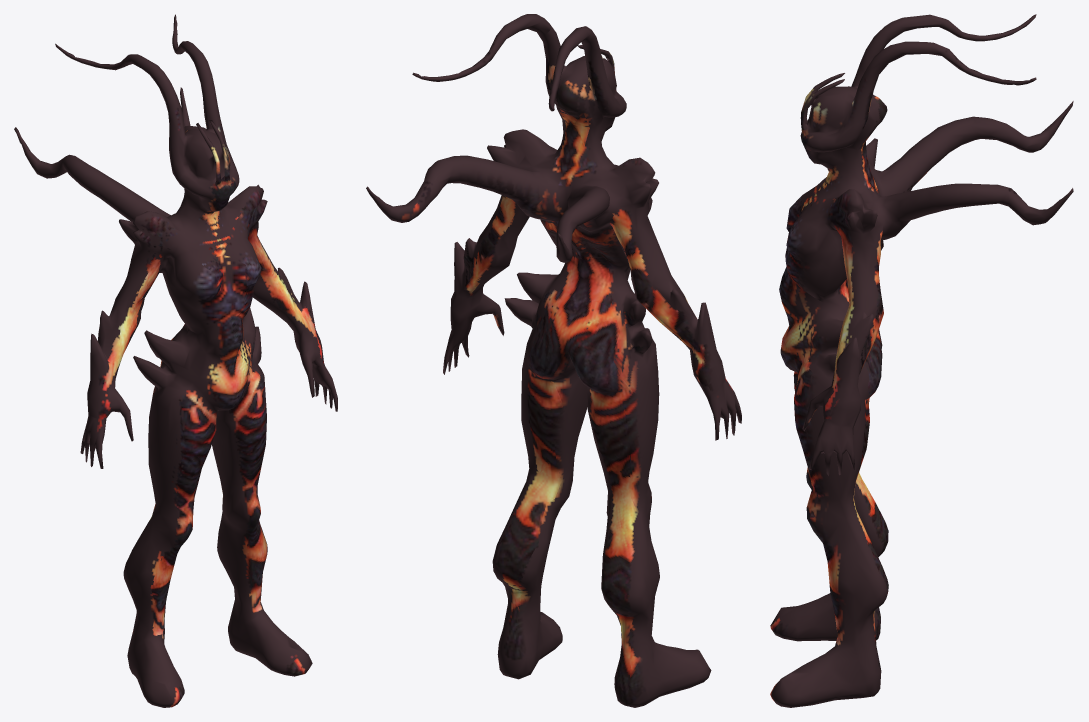
3 renders of one model, left to right at view 1: azimuth 30°, elevation 25°; view 2: azimuth 150°, elevation 25°; view 3: azimuth 270°, elevation 25°, orthographic. The views are drawn at different scales.
Parts seen in each view (by area): view 1: geometry_0; view 2: geometry_0; view 3: geometry_0.
Boxes of the visible parts, box(x1,y1,x2,y2) form: geometry_0: box(14, 14, 337, 707); geometry_0: box(366, 14, 741, 707); geometry_0: box(770, 14, 1073, 707).
Size of the model in its own units: 0.8647 by 2 by 0.8653.
Materials: 1 (1 with a texture image).
